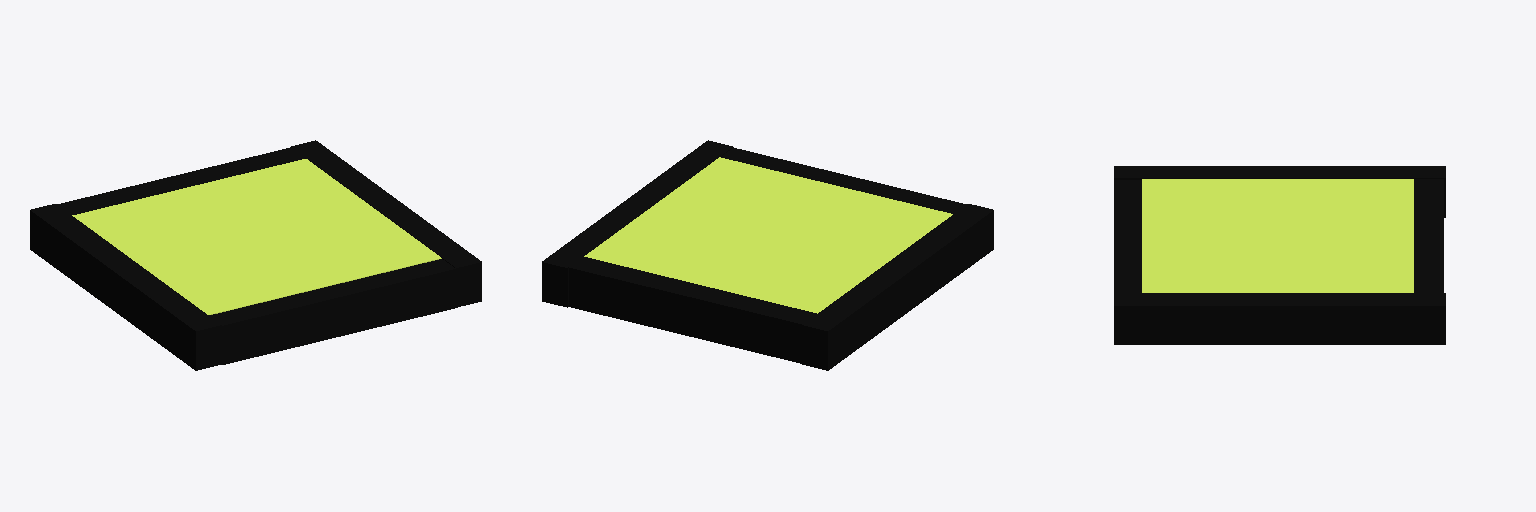
Rendered from lamp.obj.
The picture shows the model from 3 angles: view 1: azimuth 30°, elevation 25°; view 2: azimuth 150°, elevation 25°; view 3: azimuth 270°, elevation 25°; orthographic projection.
Parts seen in each view (by area): view 1: Cube, Cube.001, Cube.004, Cube.003, Cube.002; view 2: Cube, Cube.002, Cube.004, Cube.003, Cube.001; view 3: Cube, Cube.003, Cube.004, Cube.002, Cube.001.
Part boxes in pixels (bbox=[...]): Cube: bbox=[72, 159, 441, 314]; Cube.001: bbox=[209, 259, 457, 364]; Cube.004: bbox=[30, 204, 221, 370]; Cube.003: bbox=[291, 140, 481, 307]; Cube.002: bbox=[57, 147, 306, 214]; Cube: bbox=[584, 157, 952, 313]; Cube.002: bbox=[568, 256, 816, 363]; Cube.004: bbox=[802, 204, 993, 370]; Cube.003: bbox=[542, 140, 733, 307]; Cube.001: bbox=[721, 148, 966, 213]; Cube: bbox=[1142, 179, 1413, 292]; Cube.003: bbox=[1114, 293, 1445, 344]; Cube.004: bbox=[1114, 166, 1445, 217]; Cube.002: bbox=[1414, 179, 1443, 293]; Cube.001: bbox=[1114, 180, 1141, 292].
Bounding box in the file's own units: 2.43 × 0.3287 × 2.44.